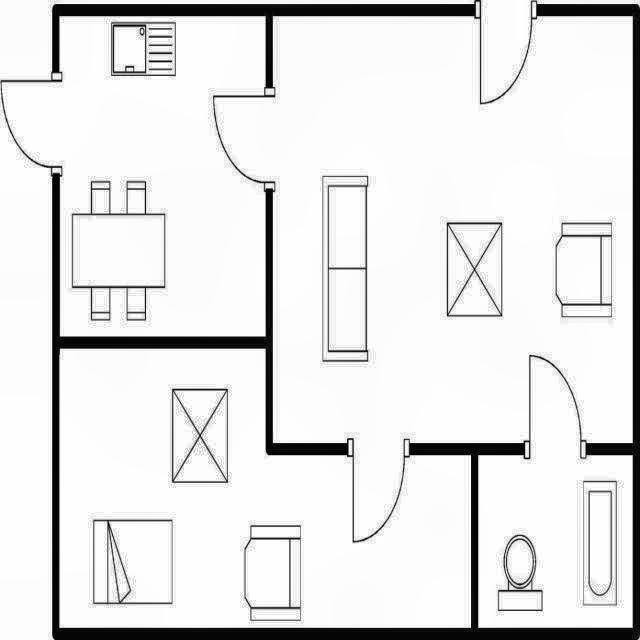room: (274, 17, 632, 442), (59, 347, 471, 629), (61, 16, 266, 335), (478, 456, 632, 627)
